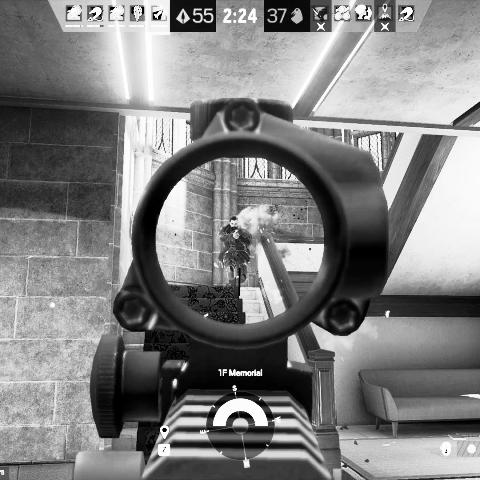Character: (216, 214, 254, 289)
Head: (228, 214, 240, 229)
